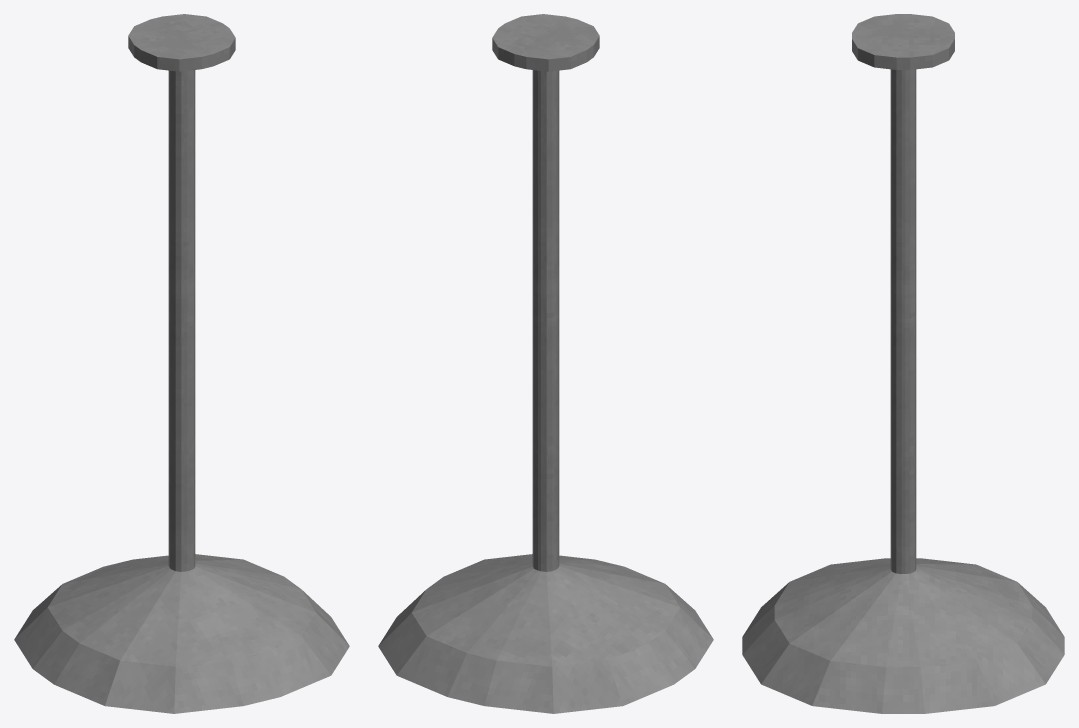
Rendered from ceiling_light.glb.
The picture shows the model from 3 angles, left to right: view 1: azimuth 30°, elevation 25°; view 2: azimuth 150°, elevation 25°; view 3: azimuth 270°, elevation 25°; orthographic projection.
Parts seen in each view (by area): view 1: CeilingLight; view 2: CeilingLight; view 3: CeilingLight.
Part boxes in pixels (x1,y1,x2,y2): CeilingLight: [14, 14, 349, 713]; CeilingLight: [378, 14, 713, 713]; CeilingLight: [742, 14, 1064, 713].
Size of the model in its own units: 0.2637 by 0.551 by 0.2637.
Materials: 2 (1 with a texture image).
